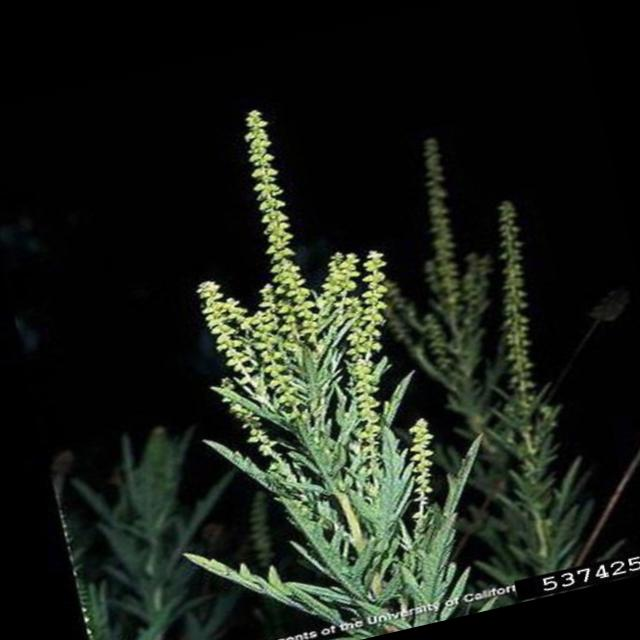ambrosia: (109, 61, 509, 640), (450, 184, 591, 491)
